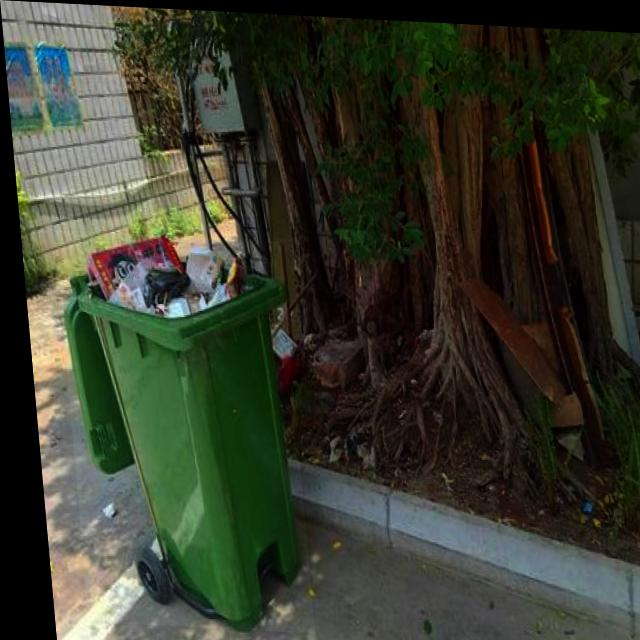overflow: (50, 230, 303, 630)
